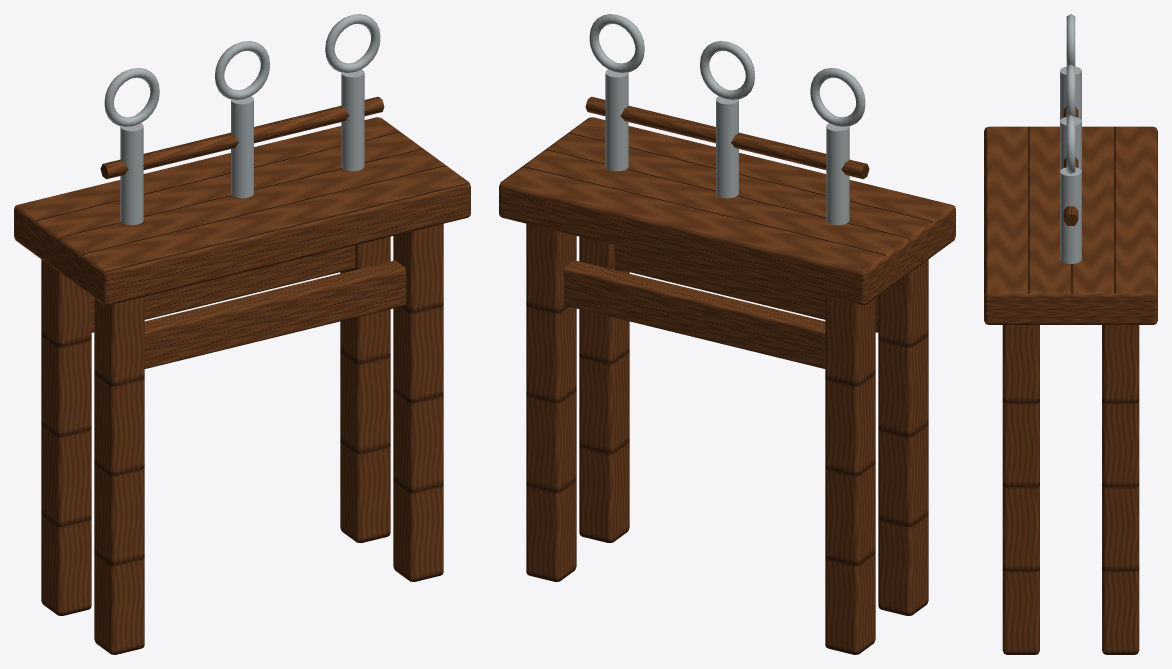
The model's file is primitive-crafting-workshop-rope-twisting-jig-2553c4ea__21552.glb.
3 views of the same model, side by side, from view 1: azimuth 30°, elevation 25°; view 2: azimuth 150°, elevation 25°; view 3: azimuth 270°, elevation 25° (orthographic). The views are drawn at different scales.
Parts seen in each view (by area): view 1: rope-twisting-jig; view 2: rope-twisting-jig; view 3: rope-twisting-jig.
Part boxes in pixels (x1,y1,x2,y2): rope-twisting-jig: (14,14,470,654); rope-twisting-jig: (499,14,955,654); rope-twisting-jig: (984,14,1157,654).
Size of the model in its own units: 0.8 by 1.14 by 0.35.
2 materials, 1 textured.
